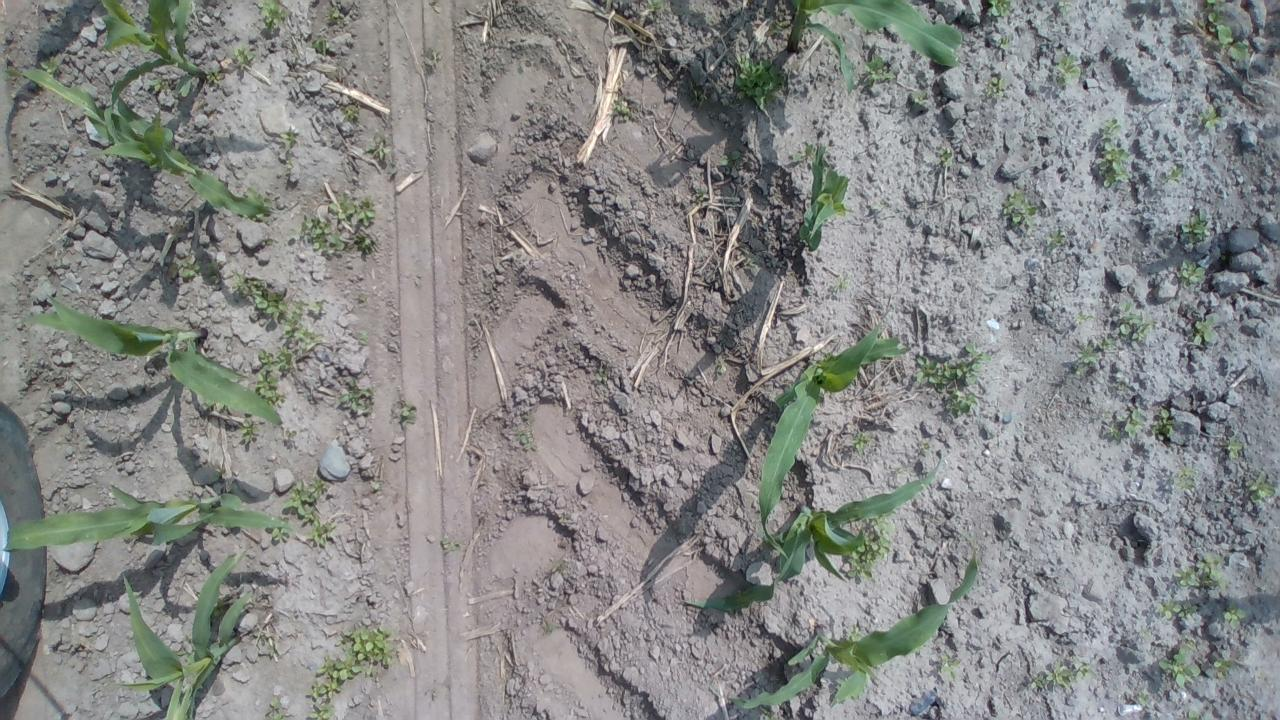Maize: (716, 528, 978, 706), (1, 61, 282, 216), (680, 451, 944, 610), (761, 322, 910, 558), (25, 291, 284, 424), (114, 548, 256, 720), (1, 484, 298, 550), (789, 0, 963, 95), (97, 0, 208, 144), (799, 143, 850, 252)
Weeds: (915, 342, 991, 393), (846, 509, 894, 580), (734, 53, 788, 113), (1198, 0, 1248, 64), (336, 626, 398, 676), (232, 270, 288, 318), (306, 654, 364, 700), (288, 214, 345, 255), (255, 346, 292, 406), (282, 478, 330, 524), (282, 300, 324, 348), (329, 192, 376, 226), (1159, 648, 1201, 686), (1046, 656, 1092, 688), (1098, 141, 1130, 187), (1002, 188, 1038, 228), (338, 377, 376, 413), (1197, 552, 1229, 588), (1118, 314, 1156, 342), (863, 54, 896, 86), (242, 187, 272, 221), (1246, 472, 1278, 503), (258, 0, 290, 31), (947, 390, 979, 419), (306, 520, 336, 548), (1181, 212, 1207, 243), (1057, 54, 1081, 87), (1180, 258, 1206, 288), (1150, 408, 1174, 440), (1156, 600, 1198, 618), (1122, 408, 1143, 438), (1222, 603, 1247, 628), (1197, 103, 1220, 130), (939, 651, 960, 680), (366, 135, 392, 158), (1174, 466, 1198, 490), (687, 83, 709, 109), (1174, 567, 1201, 588), (1194, 316, 1214, 344), (232, 44, 255, 68), (983, 76, 1006, 98), (793, 140, 816, 162), (240, 419, 260, 444), (38, 56, 61, 77), (612, 96, 632, 120), (266, 696, 286, 720), (308, 704, 337, 720), (1100, 116, 1121, 138), (399, 400, 416, 427), (986, 0, 1012, 17), (1077, 344, 1099, 364), (1045, 230, 1065, 252), (178, 258, 200, 278), (204, 259, 221, 284), (354, 232, 374, 253), (642, 0, 666, 17), (1214, 658, 1234, 678), (516, 430, 536, 450), (851, 431, 870, 452), (210, 598, 226, 622), (1226, 436, 1242, 459), (834, 276, 854, 294), (1162, 166, 1182, 184), (270, 526, 292, 542), (910, 90, 929, 108), (278, 130, 296, 149), (148, 76, 170, 91), (939, 146, 953, 169), (204, 68, 224, 84), (310, 37, 330, 53), (721, 151, 742, 166), (768, 19, 788, 33), (442, 538, 461, 552), (343, 105, 359, 121), (846, 624, 861, 640), (758, 705, 774, 720), (1098, 338, 1116, 351), (0, 68, 21, 79), (1076, 314, 1094, 326), (1058, 0, 1072, 15), (1030, 674, 1044, 688), (357, 329, 370, 344), (1109, 424, 1121, 439), (920, 439, 932, 454), (426, 49, 436, 66), (999, 36, 1011, 50), (329, 8, 341, 22), (594, 368, 606, 381), (694, 187, 706, 200), (177, 648, 190, 660), (745, 254, 756, 268), (1186, 710, 1200, 720), (892, 466, 906, 475), (1184, 640, 1196, 650), (1138, 692, 1148, 704), (285, 158, 294, 170), (1120, 302, 1130, 312), (716, 364, 726, 374), (180, 635, 192, 643), (285, 430, 296, 438), (1075, 366, 1085, 374), (253, 630, 261, 638), (268, 648, 276, 656), (372, 482, 380, 490), (266, 238, 274, 245)
